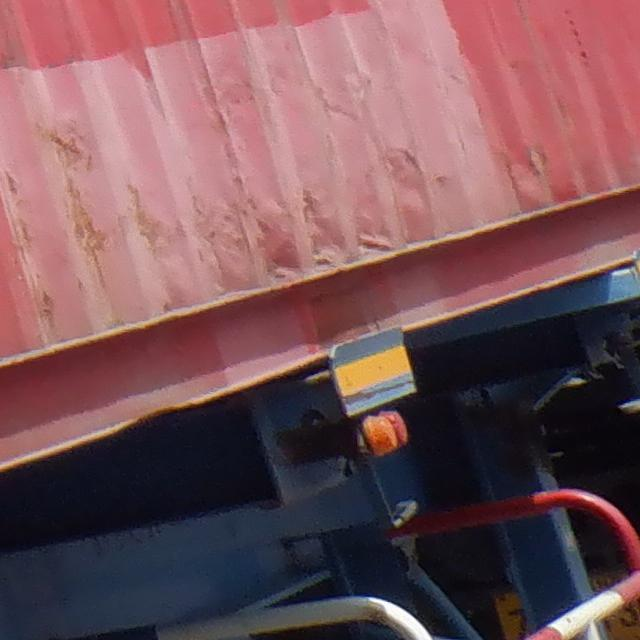dent: (171, 140, 423, 276), (195, 43, 397, 131), (493, 139, 579, 200)
